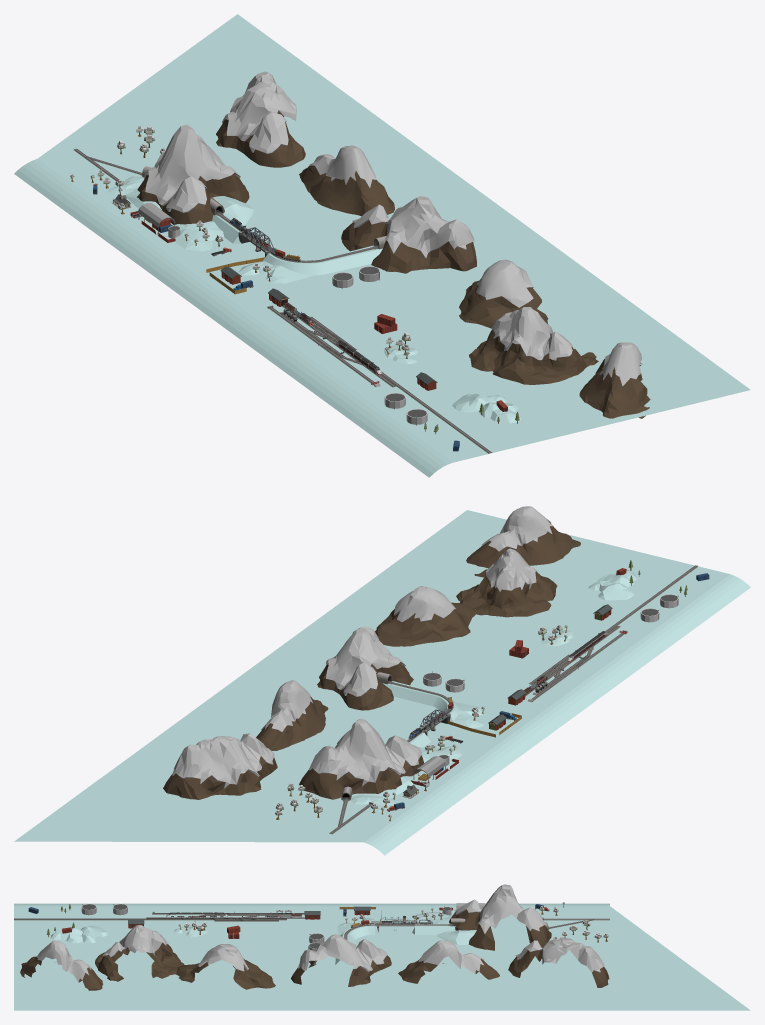
The model's file is _lvl_winter_bg_1.glb.
3 renders of one model, top to bottom at view 1: azimuth 30°, elevation 25°; view 2: azimuth 150°, elevation 25°; view 3: azimuth 270°, elevation 25°, orthographic. The views are drawn at different scales.
Parts seen in each view (by area): view 1: bg_ground_far_1, SM_Env_HillSnow_Pack_1, bg_ground_1, bg_near_plane_winter, bg_ground_0, SM_Env_Hills_Small_1, SM_Env_Rails_1, SM_Env_Rails_2; view 2: SM_Env_HillSnow_Pack_1, bg_ground_far_1, bg_ground_1, bg_ground_0, bg_near_plane_winter, SM_Env_Hills_Small_1, SM_Env_Rails_1, SM_Env_Rails_2; view 3: bg_ground_far_1, bg_ground_1, SM_Env_HillSnow_Pack_1, bg_ground_0, bg_near_plane_winter, SM_Env_Hills_Small_1, SM_Env_Rails_1, SM_Env_Rails_2.
Boxes of the visible parts, left/top/right/bottom form: bg_ground_far_1: left=172, top=86, right=750, bottom=429; SM_Env_HillSnow_Pack_1: left=137, top=71, right=650, bottom=418; bg_ground_1: left=38, top=126, right=586, bottom=462; bg_near_plane_winter: left=14, top=159, right=452, bottom=477; bg_ground_0: left=38, top=14, right=335, bottom=158; SM_Env_Hills_Small_1: left=108, top=176, right=520, bottom=423; SM_Env_Rails_1: left=74, top=148, right=386, bottom=275; SM_Env_Rails_2: left=269, top=305, right=492, bottom=453; SM_Env_HillSnow_Pack_1: left=163, top=506, right=580, bottom=799; bg_ground_far_1: left=101, top=510, right=611, bottom=813; bg_ground_1: left=245, top=545, right=729, bottom=842; bg_ground_0: left=14, top=778, right=362, bottom=842; bg_near_plane_winter: left=364, top=574, right=750, bottom=855; SM_Env_Hills_Small_1: left=351, top=570, right=637, bottom=805; SM_Env_Rails_1: left=329, top=672, right=459, bottom=834; SM_Env_Rails_2: left=525, top=565, right=697, bottom=700; bg_ground_far_1: left=14, top=953, right=609, bottom=1010; bg_ground_1: left=14, top=906, right=609, bottom=953; SM_Env_HillSnow_Pack_1: left=20, top=884, right=609, bottom=990; bg_ground_0: left=610, top=906, right=750, bottom=1010; bg_near_plane_winter: left=14, top=903, right=609, bottom=906; SM_Env_Hills_Small_1: left=50, top=912, right=549, bottom=944; SM_Env_Rails_1: left=335, top=917, right=609, bottom=964; SM_Env_Rails_2: left=14, top=913, right=304, bottom=921.
Size of the model in its own units: 201 by 45.08 by 556.
1 material, 1 textured.
